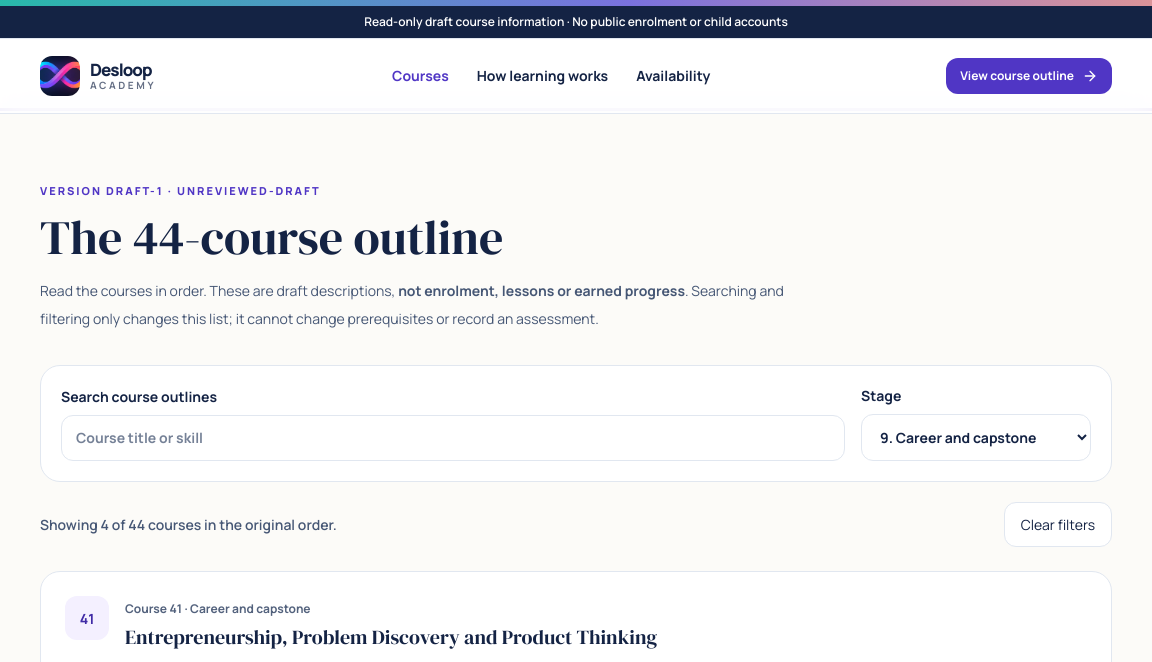
Test: actual release entry and read-only draft catalogue › searches only metadata, keeps order, filters a shareable stage and recovers from no matches
Expected: the heading "The 44-course outline" is shown, left=40, top=204, right=503, bottom=270
Expected: the dropdown labelled "Stage" shows "9. Career and capstone", left=861, top=414, right=1091, bottom=461
Step 1. Type "zzzznotacourse" into the search field labelled "Search course outlines" → [453, 438], box left=61, top=415, right=845, bottom=461
(page scrolled)
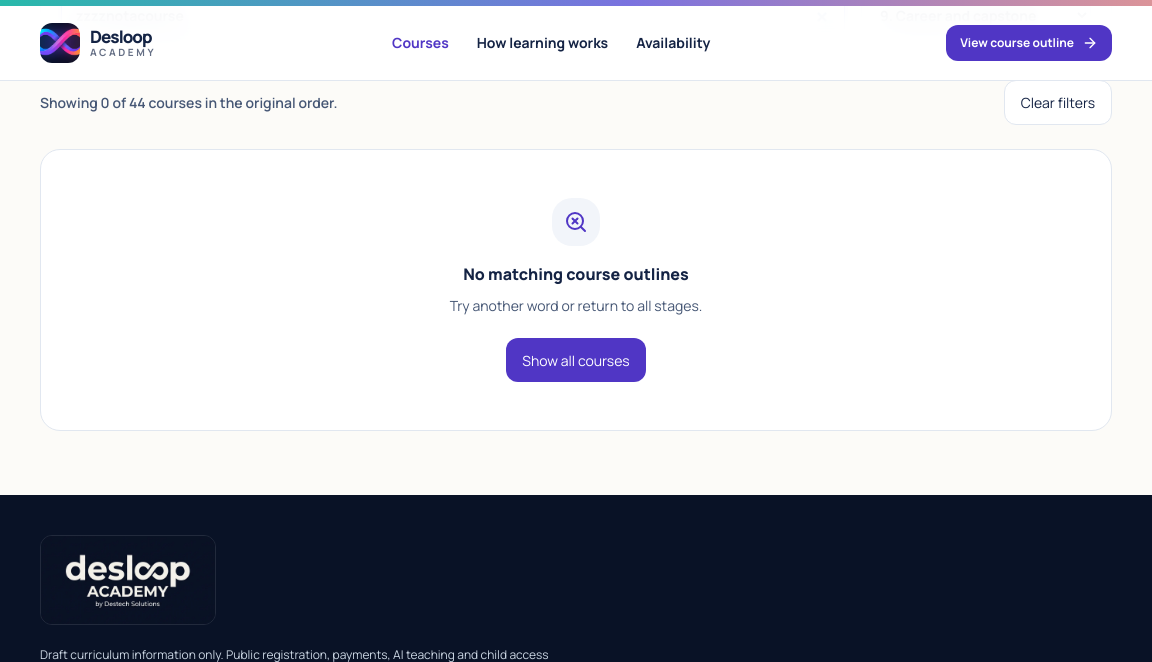
Now the heading "No matching course outlines" is shown, box left=463, top=262, right=689, bottom=286
Step 2. Click the button "Show all courses" → [576, 360], box left=506, top=338, right=646, bottom=382
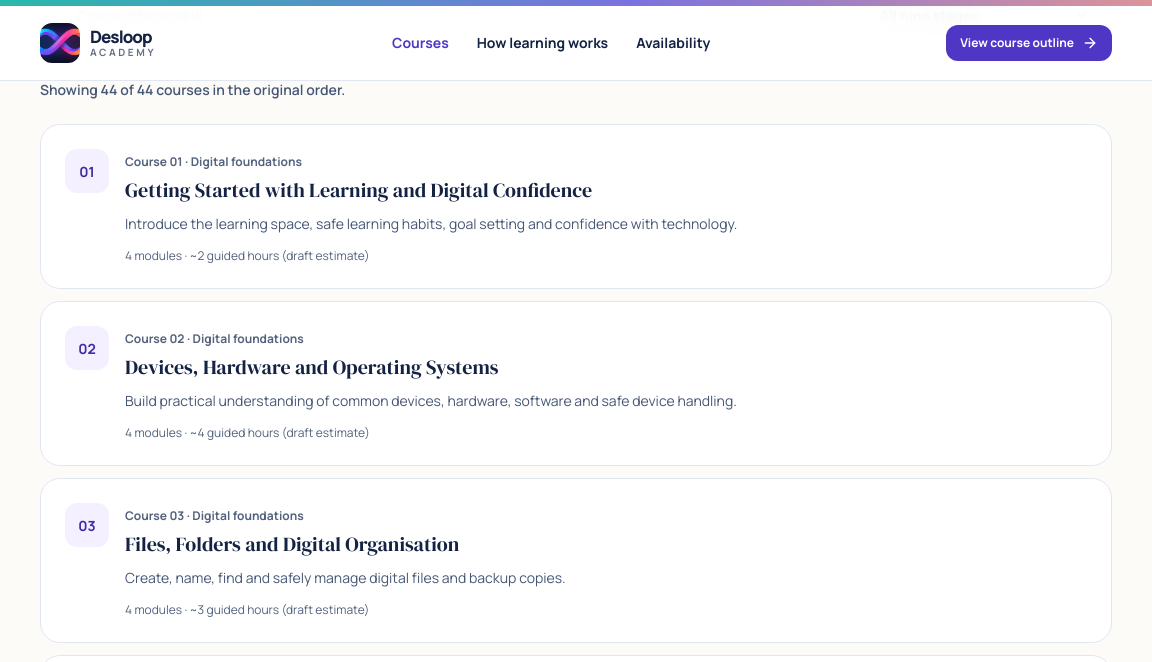
Now the message shows "Showing 44 of 44 courses", box left=40, top=80, right=345, bottom=100
Now the number of list items is 44
